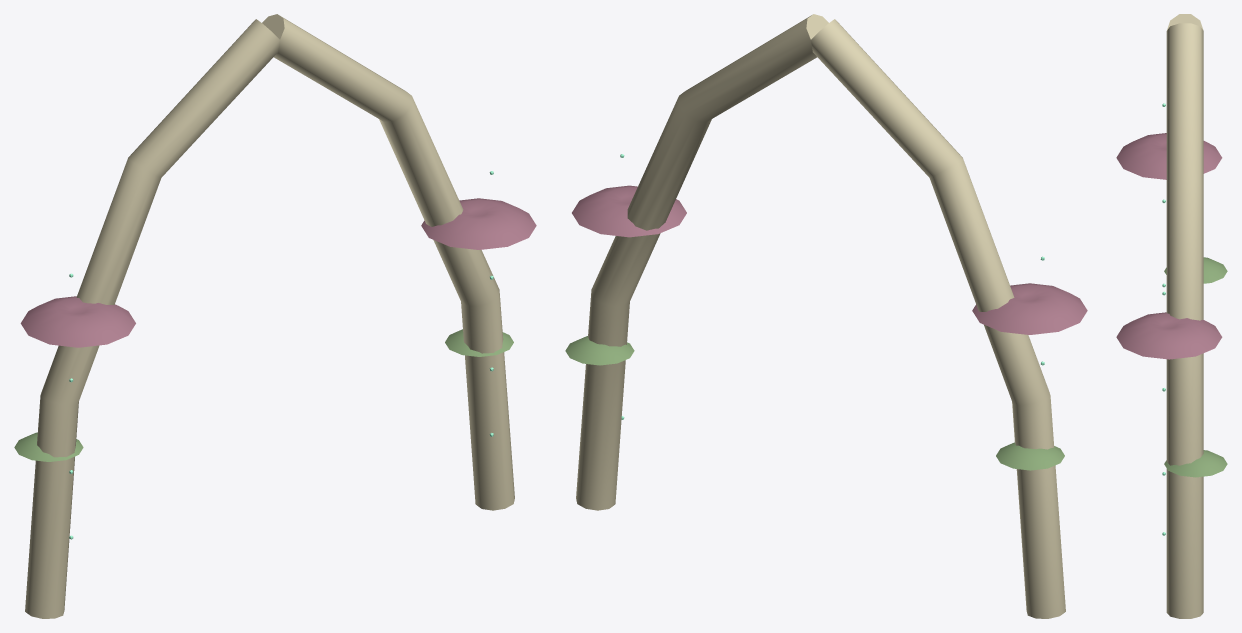
File: spore_arch.glb
3 renders of one model, left to right at view 1: azimuth 30°, elevation 25°; view 2: azimuth 150°, elevation 25°; view 3: azimuth 270°, elevation 25°, orthographic. The views are drawn at different scales.
Visible parts, largest first — view 1: spore_arch; view 2: spore_arch; view 3: spore_arch.
Part boxes in pixels (<box>): spore_arch: <box>14,14,536,618</box>; spore_arch: <box>565,14,1087,618</box>; spore_arch: <box>1116,14,1227,618</box>.
Size of the model in its own units: 20 by 20.57 by 4.2.
